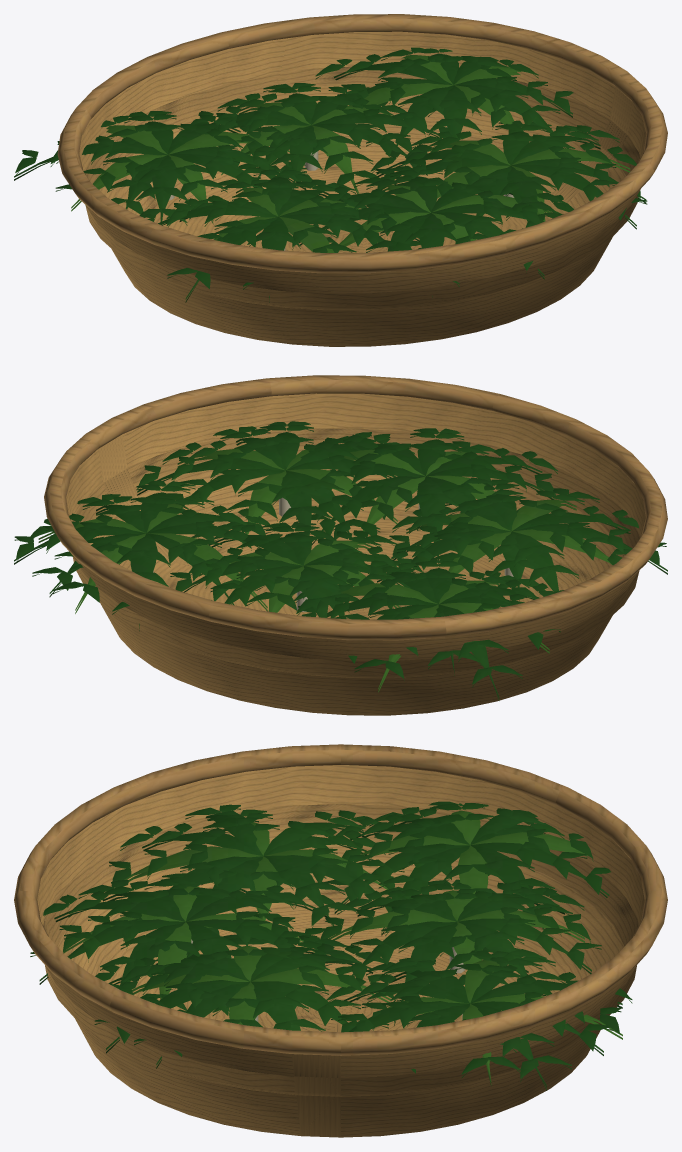
File: PROP_Season_Stand_Shepherd.glb
The picture shows the model from 3 angles, top to bottom: view 1: azimuth 30°, elevation 25°; view 2: azimuth 150°, elevation 25°; view 3: azimuth 270°, elevation 25°; orthographic projection. The views are drawn at different scales.
Parts seen in each view (by area): view 1: PROP_Season_Stand_Shepherd; view 2: PROP_Season_Stand_Shepherd; view 3: PROP_Season_Stand_Shepherd.
Part boxes in pixels (x1,y1,x2,y2): PROP_Season_Stand_Shepherd: (14, 14, 667, 346); PROP_Season_Stand_Shepherd: (14, 375, 667, 715); PROP_Season_Stand_Shepherd: (14, 744, 667, 1137).
Bounding box in the file's own units: 0.2732 × 0.0589 × 0.253.
Materials: 5 (5 with a texture image).
